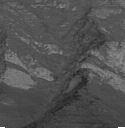Target: (49, 73, 62, 82)
